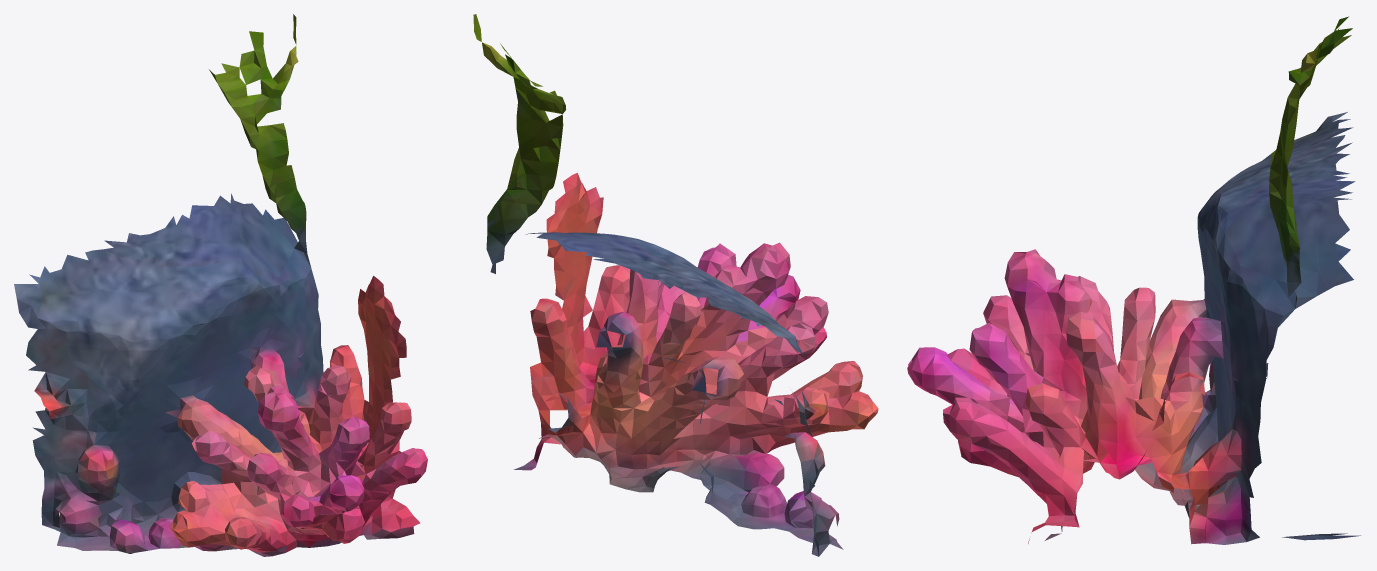
Rendered from coral_rosa.glb.
3 views of the same model, side by side, from view 1: azimuth 30°, elevation 25°; view 2: azimuth 150°, elevation 25°; view 3: azimuth 270°, elevation 25° (orthographic). The views are drawn at different scales.
Visible parts, largest first — view 1: plush; view 2: plush; view 3: plush.
Boxes of the visible parts, left/top/right/bottom form: plush: left=14, top=14, right=427, bottom=556; plush: left=473, top=14, right=878, bottom=556; plush: left=907, top=16, right=1360, bottom=544.
Bounding box in the file's own units: 0.6782 × 0.9799 × 0.7455.
1 material, 1 textured.
